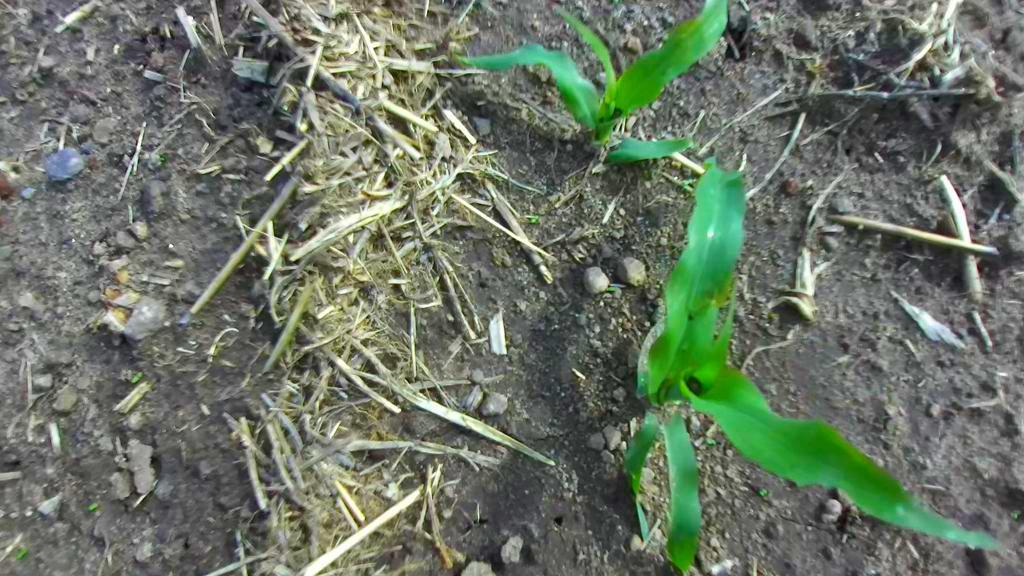BroWeed: (430, 39, 466, 73), (606, 282, 624, 300), (129, 370, 144, 385), (413, 43, 436, 52), (15, 547, 28, 561), (86, 500, 100, 512), (703, 436, 718, 446), (758, 487, 768, 498), (769, 311, 781, 320), (530, 214, 540, 223)
Maize: (485, 147, 1003, 576), (456, 0, 728, 164)
